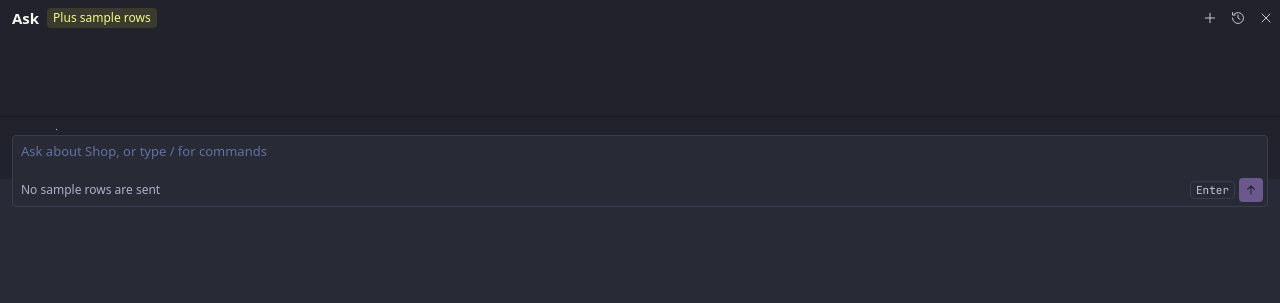
Test: asking_with_a_provider_saves_the_thread
This screenshot has width=1280, height=303.
Type "why slow?" into the text box named "Message" at (640, 157), box x1=13 y1=136 x2=1267 y2=178
Then press Enter
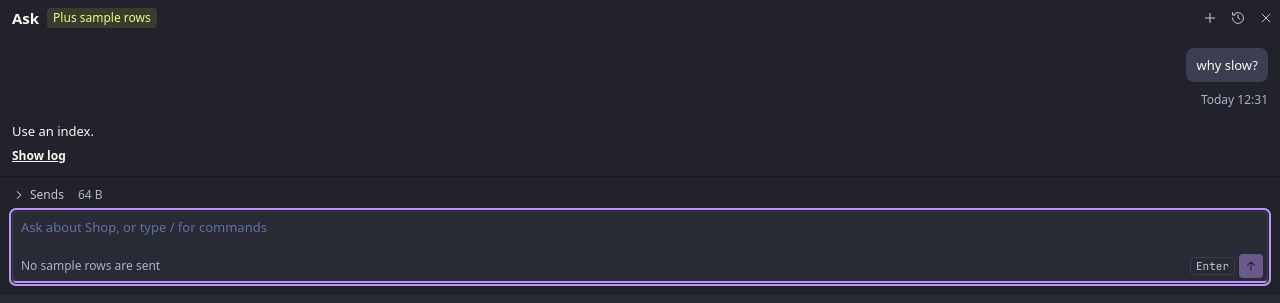
Expected: the text "Use an index." is shown, x1=12 y1=122 x2=94 y2=140
